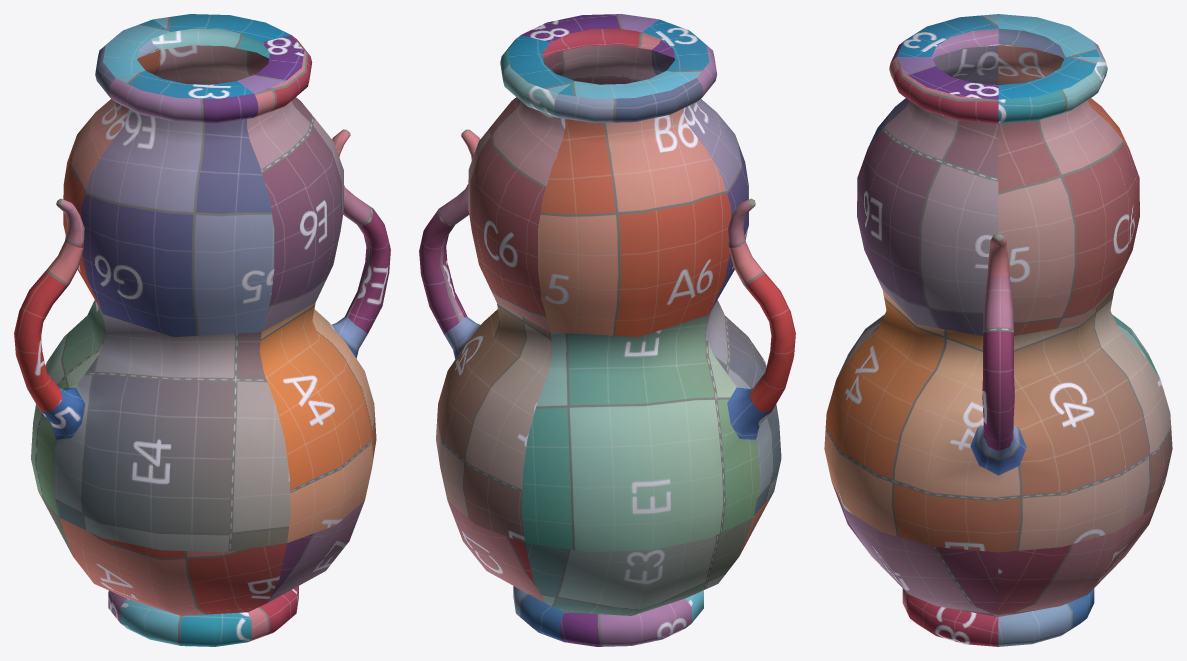
File: RoundVase_LOW.fbx
The picture shows the model from 3 angles, left to right: view 1: azimuth 30°, elevation 25°; view 2: azimuth 150°, elevation 25°; view 3: azimuth 270°, elevation 25°; orthographic projection.
Visible parts, largest first — view 1: RoundVase_LOW.001; view 2: RoundVase_LOW.001; view 3: RoundVase_LOW.001.
Part boxes in pixels (<box>): RoundVase_LOW.001: <box>14,14,390,646</box>; RoundVase_LOW.001: <box>419,14,795,646</box>; RoundVase_LOW.001: <box>824,14,1172,646</box>.
Size of the model in its own units: 1.22 by 1.73 by 0.9854.
1 material, 1 textured.
